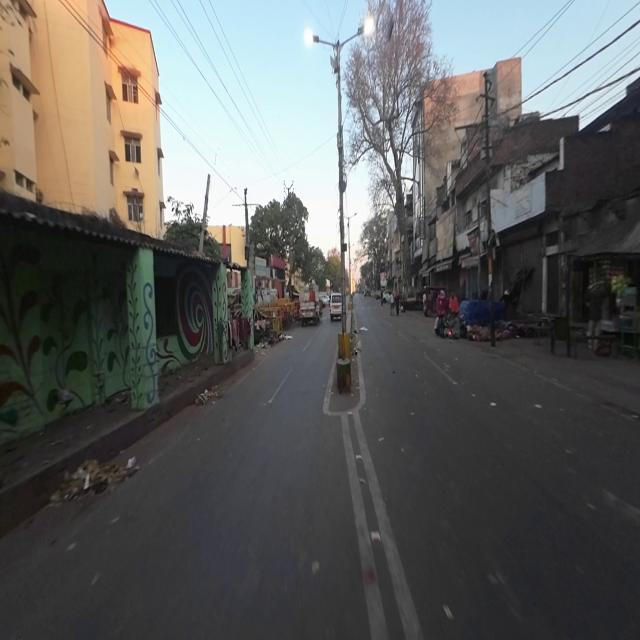Garbage: (55, 457, 144, 500)
